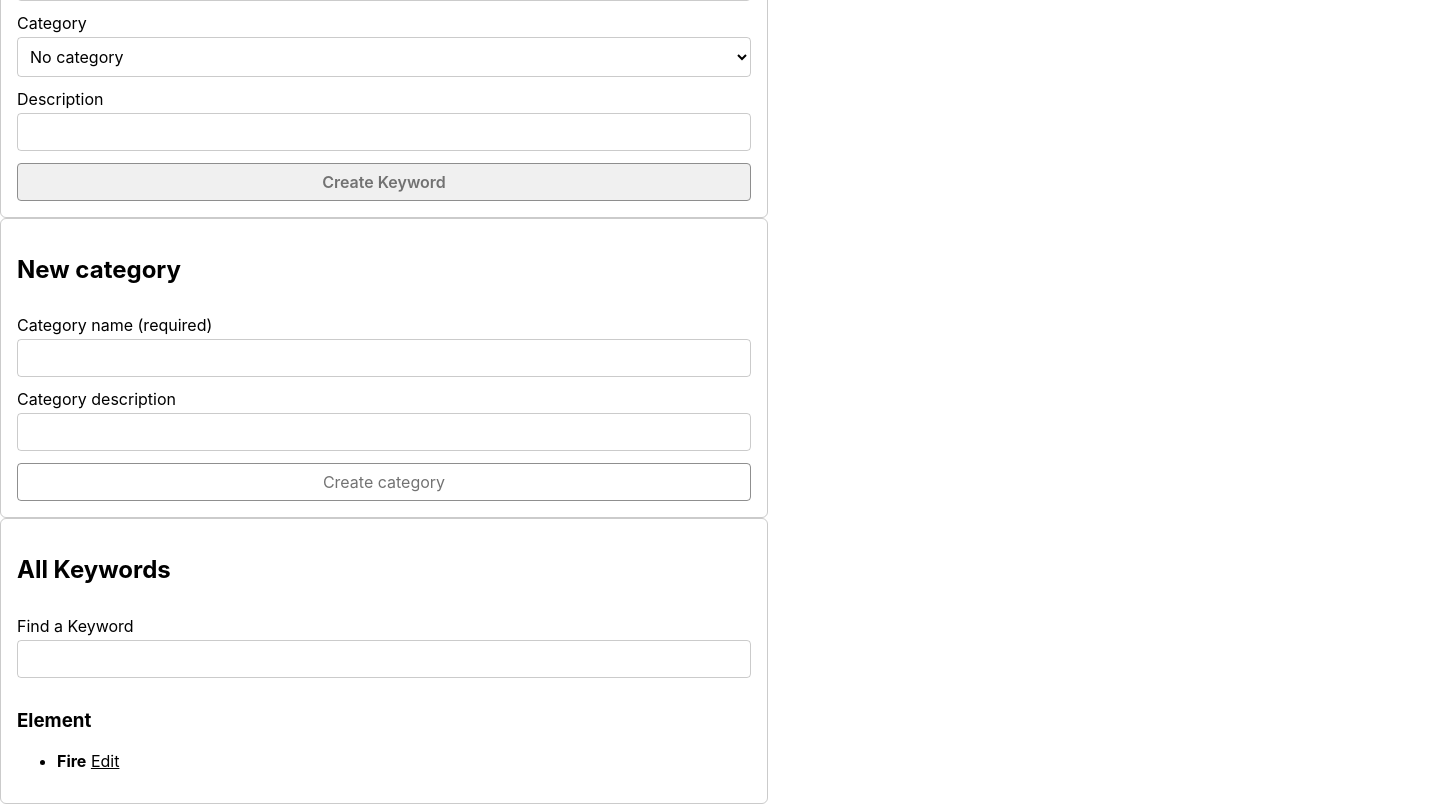
Scenario: RULES-WO1 Phase C — reference previews and Keywords › R09: edits a Keyword's words only — shows where it is used, sends the values it loaded, and reports a stale edit
(page scrolled)
Click the button with aria-label "Edit Fire" at {"x": 105, "y": 761}, box left=91, top=751, right=119, bottom=771
(page scrolled)
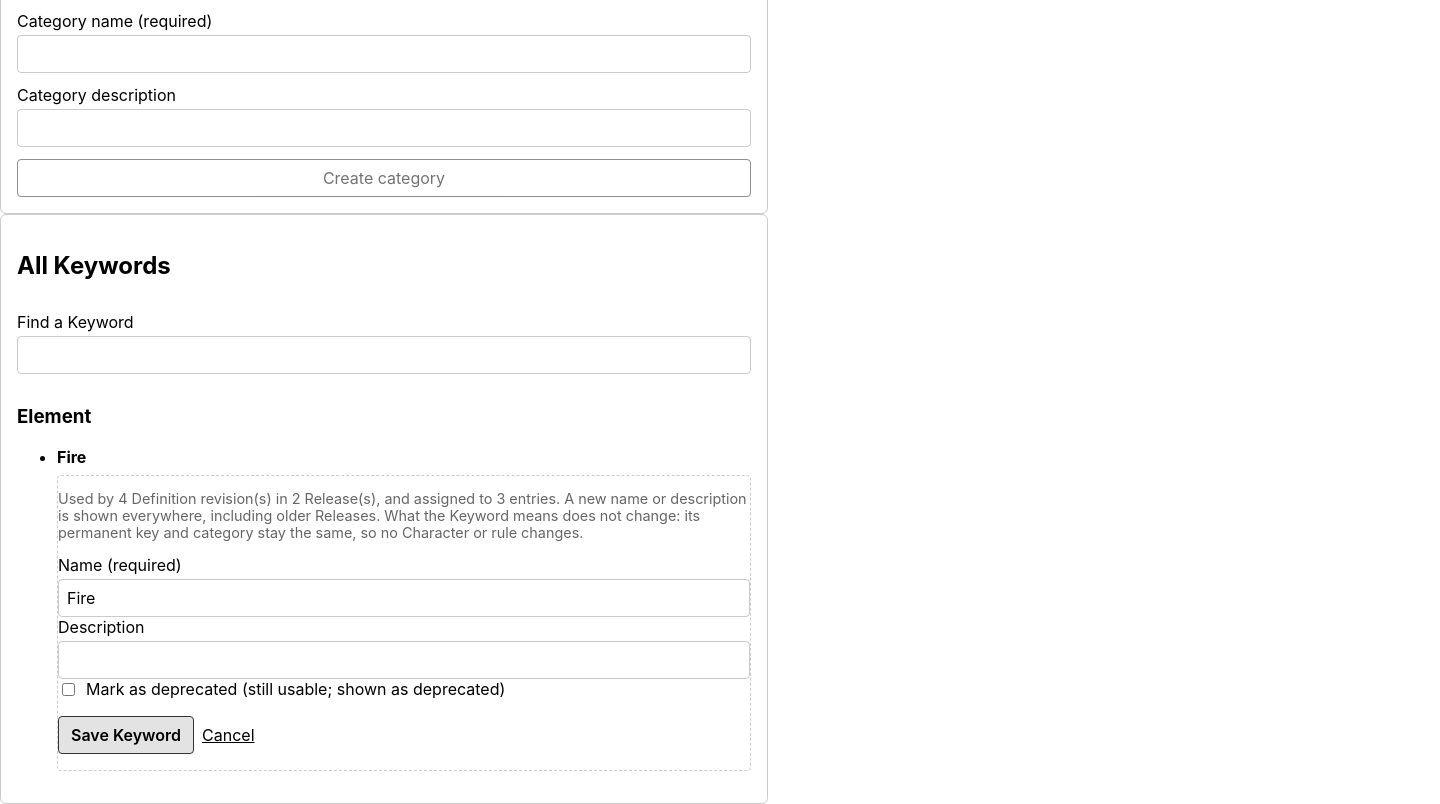
Result: the text with test id "keyword-usage" shows "4 Definition revision(s) in 2 Release(s)" at left=58, top=490, right=560, bottom=507
Result: the text with test id "keyword-usage" shows "permanent key and category stay the same" at left=58, top=490, right=746, bottom=541
Result: the text with test id "keyword-usage" shows "Used by" at left=58, top=490, right=560, bottom=507
Replace the text in the field named "Keyword name" with "Flame" at {"x": 404, "y": 598}, box left=58, top=580, right=750, bottom=618
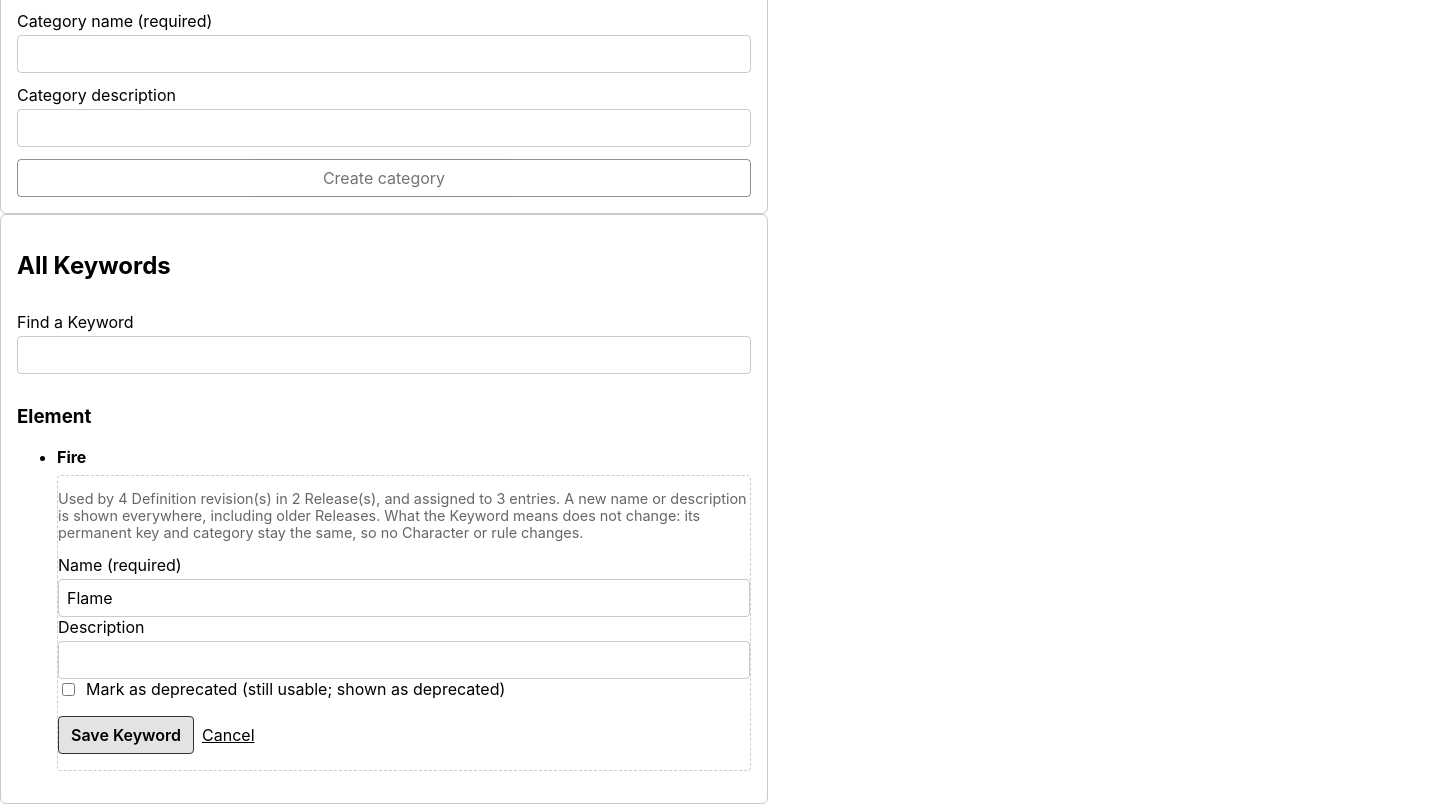
Click the button "Save Keyword" at {"x": 126, "y": 735}, box left=58, top=716, right=194, bottom=754
(page scrolled)
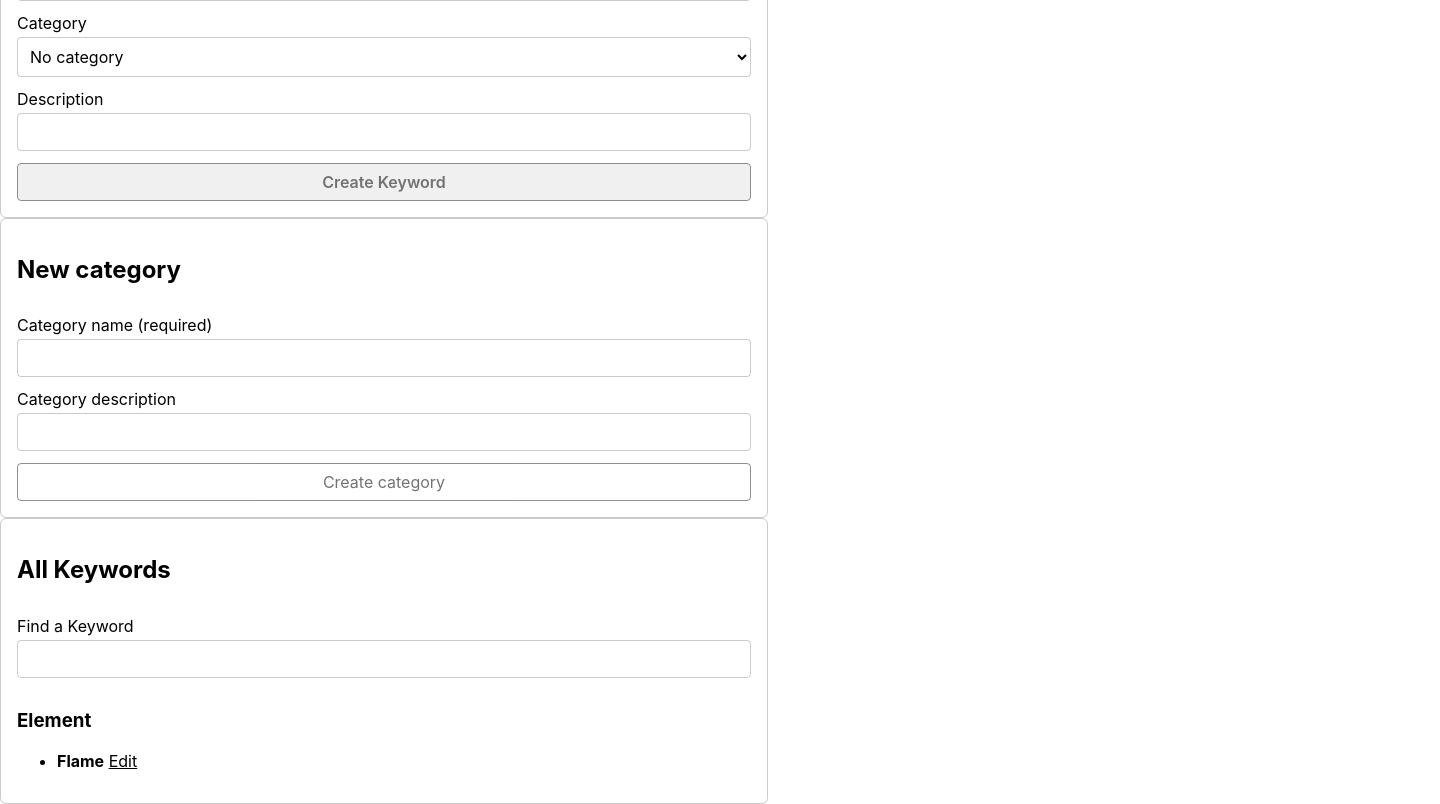
Result: the list with test id "keyword-list" shows "Flame" at left=57, top=751, right=104, bottom=771
Click the button with aria-label "Edit Flame" at {"x": 123, "y": 761}, box left=109, top=751, right=137, bottom=771
(page scrolled)
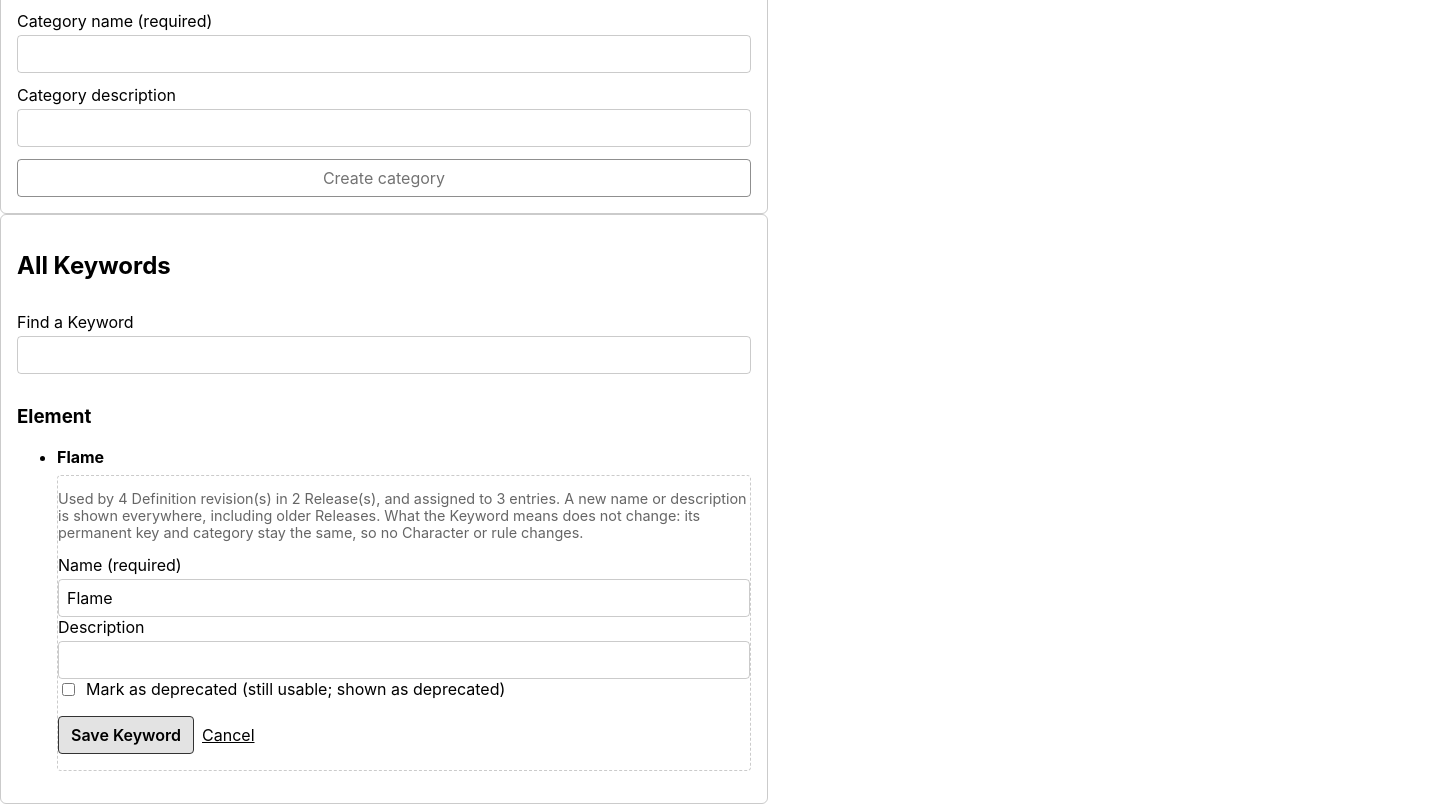
Result: the text with test id "keyword-usage" shows "Used by" at left=58, top=490, right=560, bottom=507
Replace the text in the field named "Keyword name" with "Blaze" at {"x": 404, "y": 598}, box left=58, top=580, right=750, bottom=618
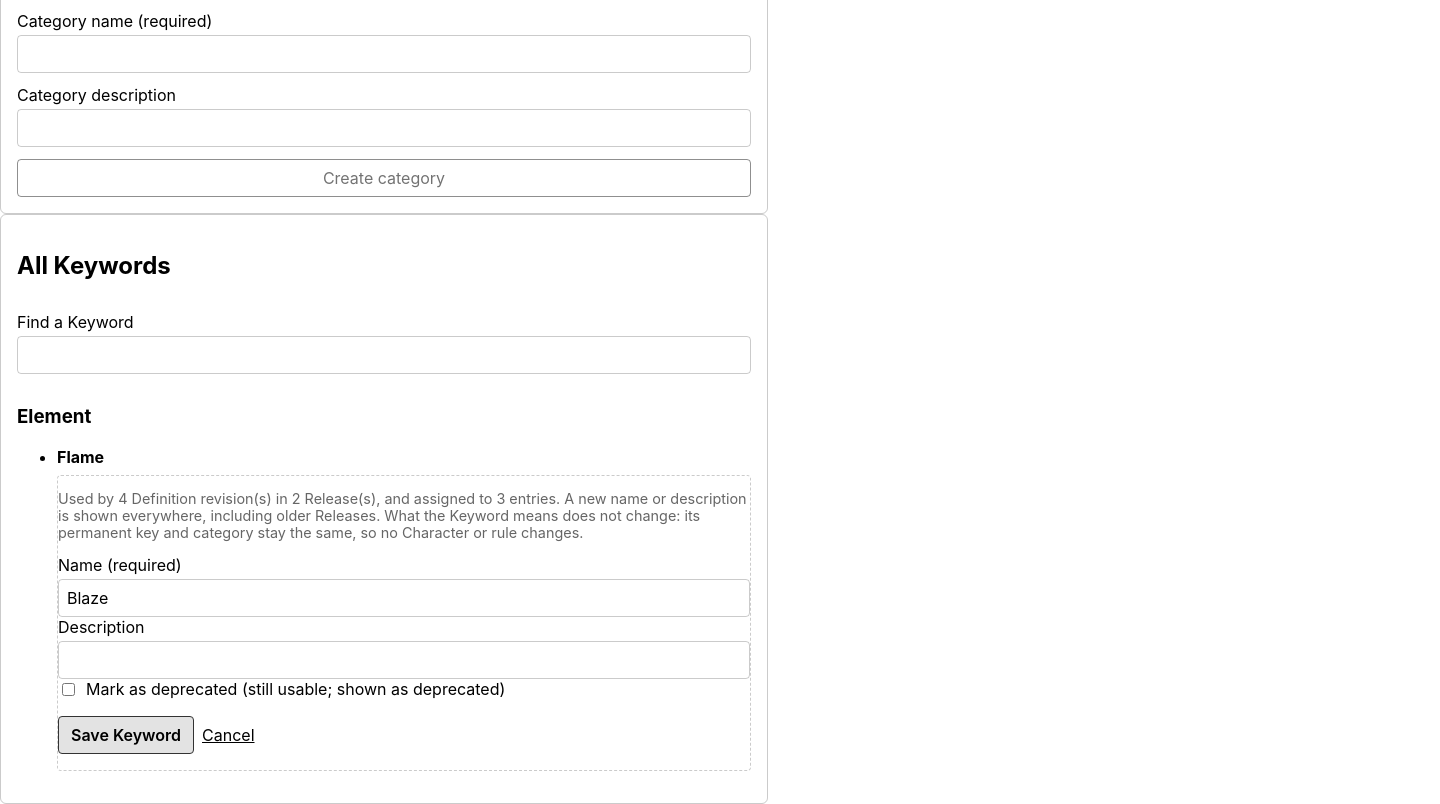
Click the button "Save Keyword" at {"x": 126, "y": 735}, box left=58, top=716, right=194, bottom=754
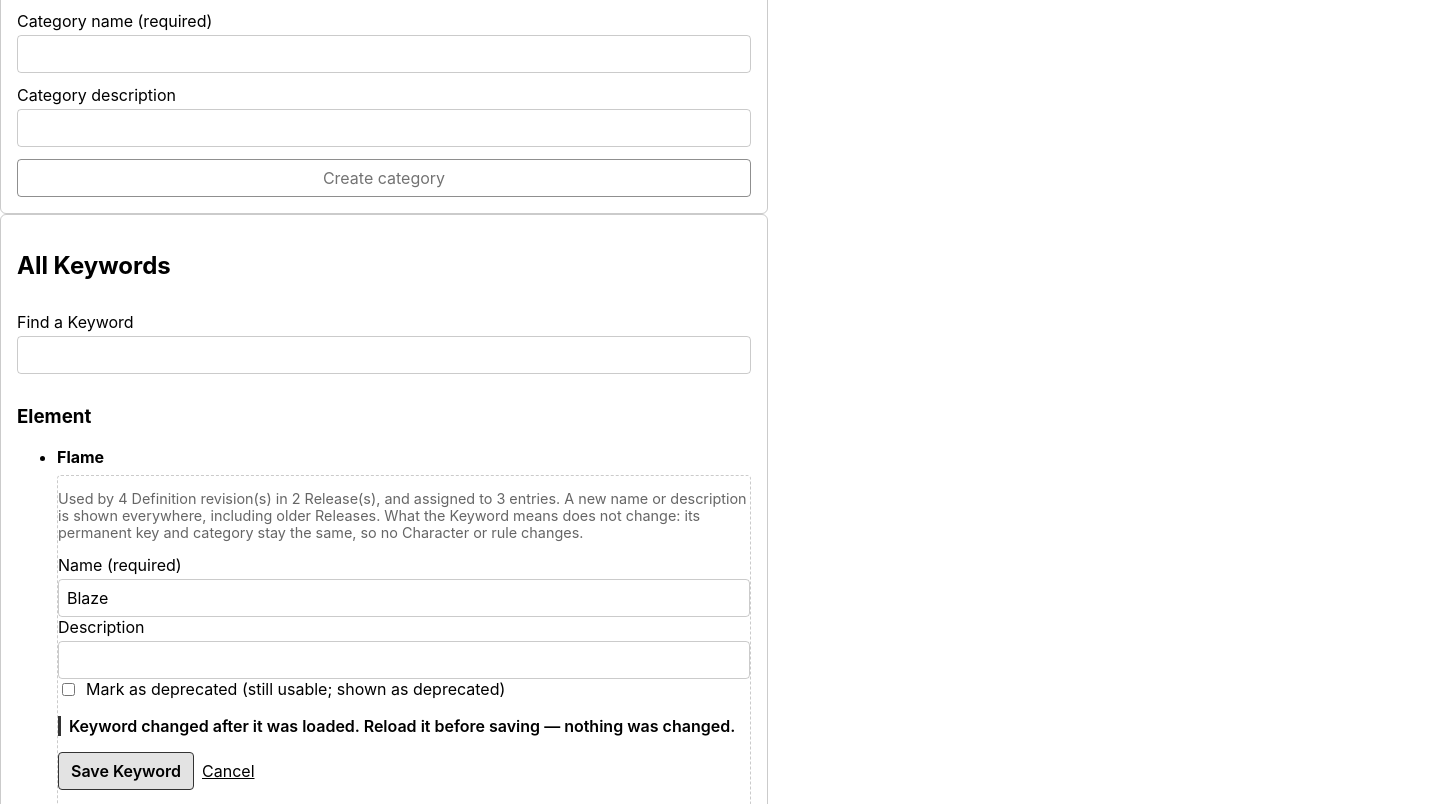
Result: the message shows "nothing was changed" at left=69, top=716, right=735, bottom=736
